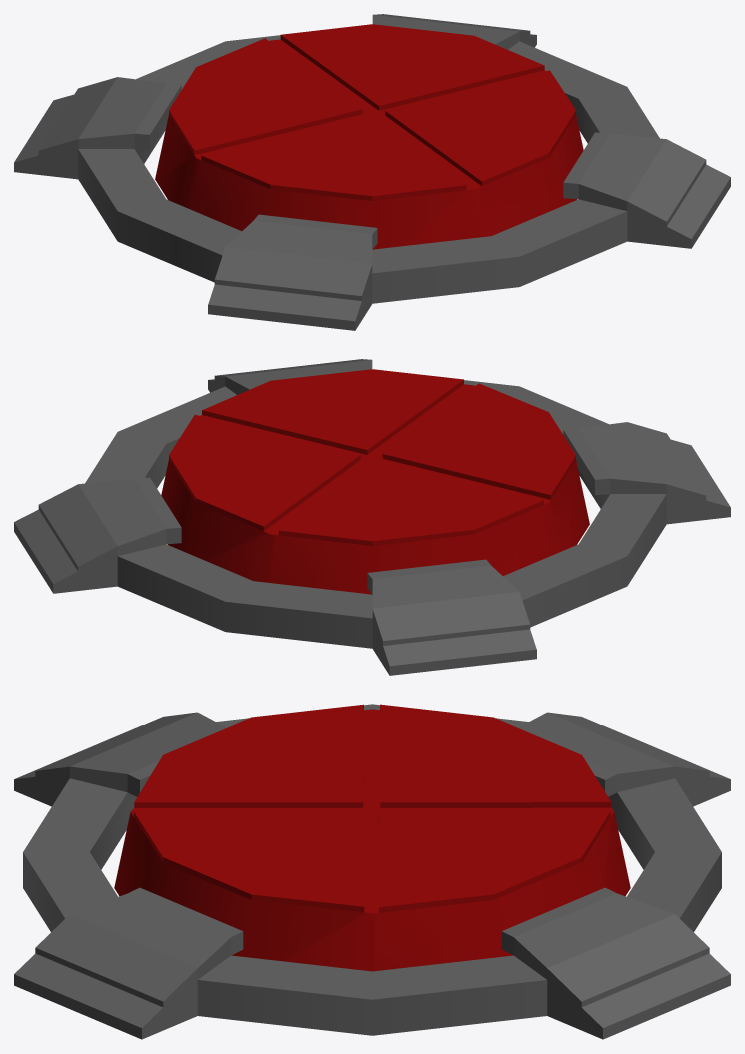
Rendered from PressurePlate.FBX.
3 renders of one model, top to bottom at view 1: azimuth 30°, elevation 25°; view 2: azimuth 150°, elevation 25°; view 3: azimuth 270°, elevation 25°, orthographic. The views are drawn at different scales.
Visible parts, largest first — view 1: Cylinder001, Tube001; view 2: Cylinder001, Tube001; view 3: Cylinder001, Tube001.
Boxes of the visible parts, left/top/right/bottom form: Cylinder001: left=155, top=24, right=583, bottom=249; Tube001: left=14, top=14, right=730, bottom=330; Cylinder001: left=161, top=369, right=589, bottom=594; Tube001: left=14, top=359, right=730, bottom=675; Cylinder001: left=114, top=704, right=630, bottom=971; Tube001: left=14, top=704, right=730, bottom=1039.
Bounding box in the file's own units: 57.23 × 7.23 × 57.23.
